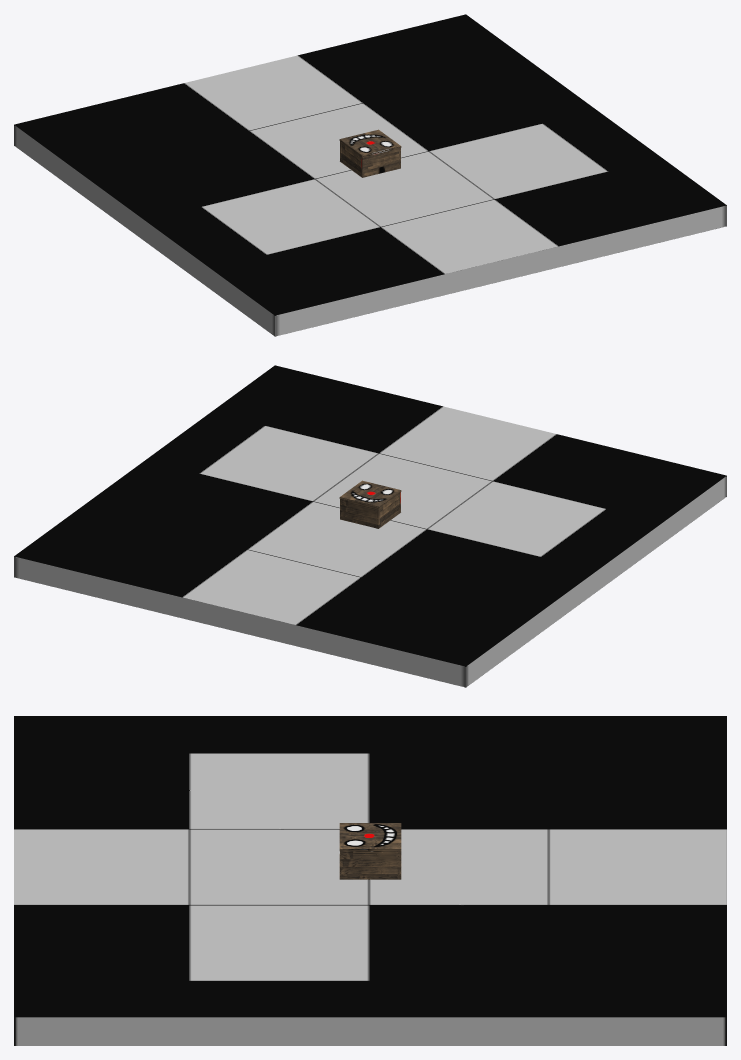
Rendered from room.gltf.
The picture shows the model from 3 angles, top to bottom: view 1: azimuth 30°, elevation 25°; view 2: azimuth 150°, elevation 25°; view 3: azimuth 270°, elevation 25°; orthographic projection. The views are drawn at different scales.
Visible parts, largest first — view 1: OutsideGround, Ceiling, WallBack; view 2: OutsideGround, Ceiling, WallFront; view 3: OutsideGround, Ceiling, WallRight.
Part boxes in pixels (bbox=[...]): OutsideGround: bbox=[14, 14, 726, 336]; Ceiling: bbox=[339, 129, 401, 157]; WallBack: bbox=[361, 148, 400, 177]; OutsideGround: bbox=[14, 365, 726, 687]; Ceiling: bbox=[339, 480, 401, 508]; WallFront: bbox=[340, 499, 379, 528]; OutsideGround: bbox=[14, 716, 726, 1045]; Ceiling: bbox=[339, 823, 401, 851]; WallRight: bbox=[340, 851, 400, 879].
Bounding box in the file's own units: 994 × 91.2 × 994.
Materials: 9 (8 with a texture image).
